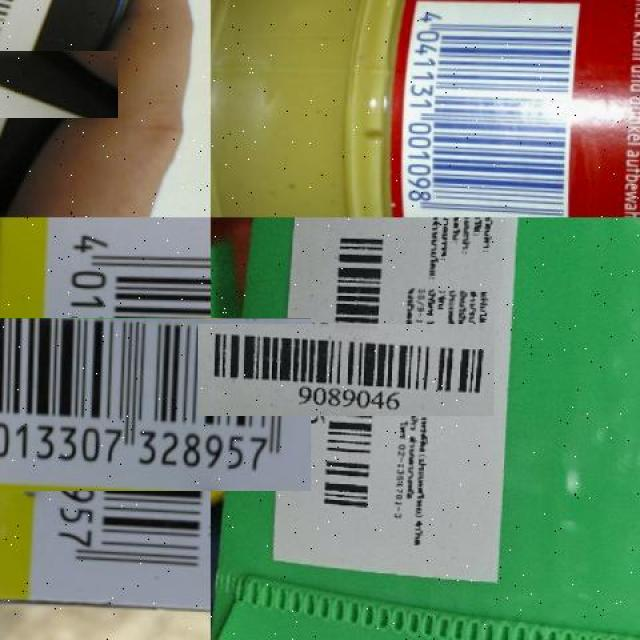Barcode: (0, 267, 261, 541), (397, 0, 585, 217), (249, 273, 444, 467), (0, 25, 93, 143)
